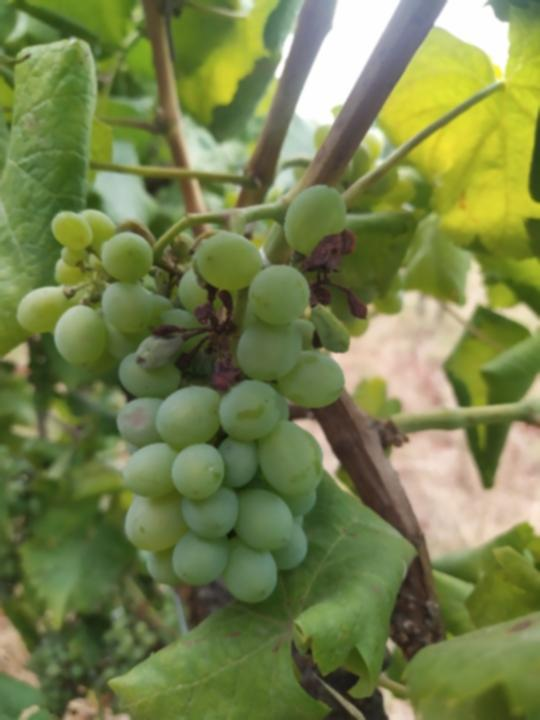grape: (14, 182, 371, 606)
